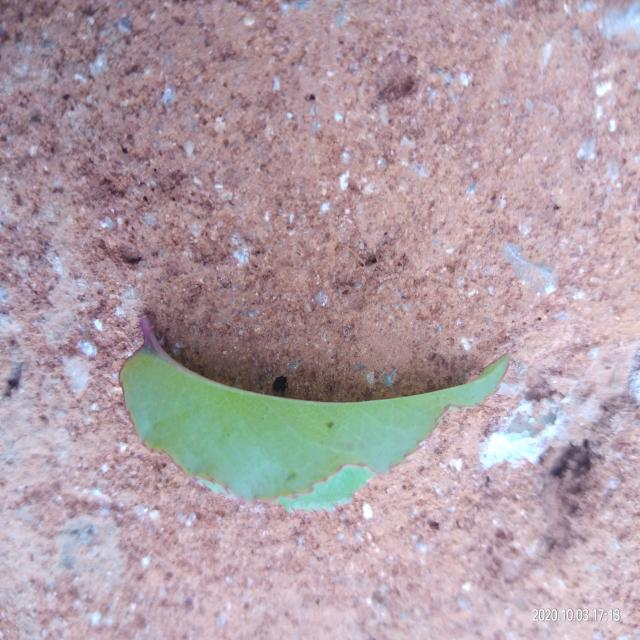rose: (119, 317, 509, 512)
